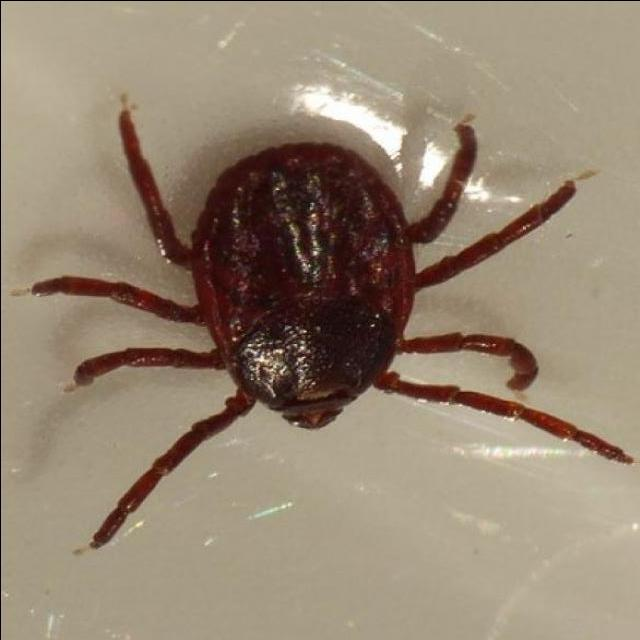Rhipicephalus Sanguineus-F: (19, 105, 637, 546)
